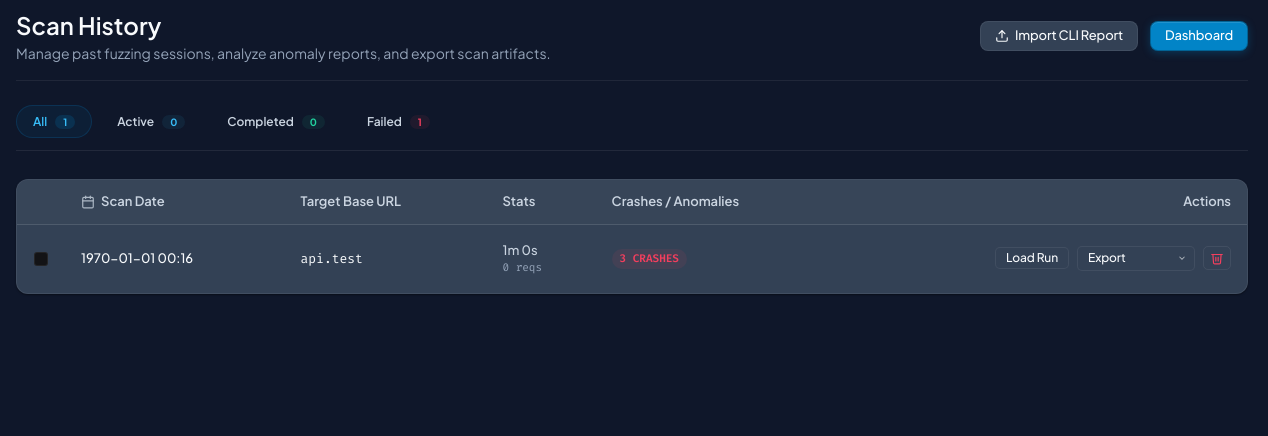
Test: HistoryPage › classifies a run with 5xx responses under the Failed tab
The image size is (1268, 436).
Expected: the 2nd text "1" is shown, [410,114,430,128]
// it is absent from the Completed tab
Click the button "Completed 0" at [276, 122], box [210,105,342,138]
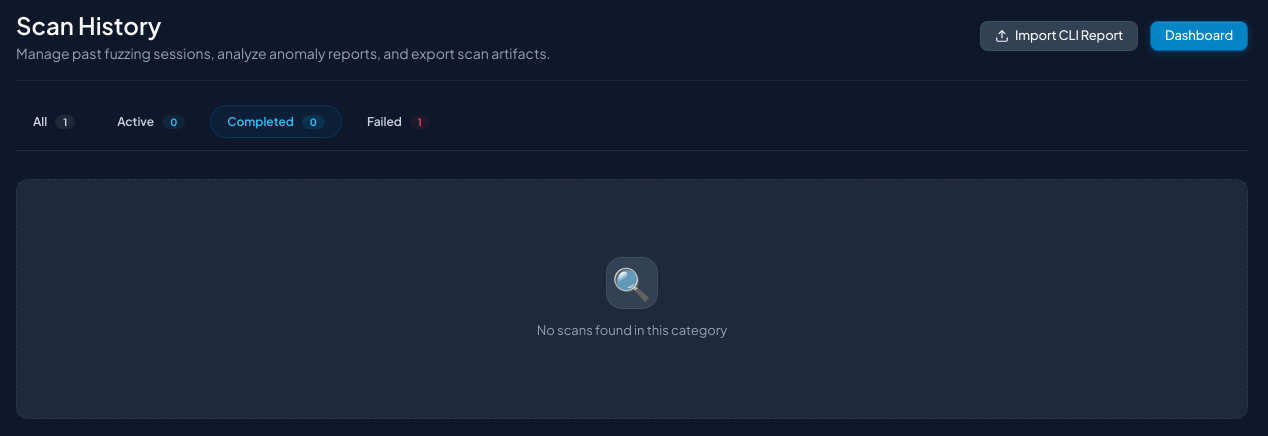
Expected: the text "No scans found in this category" is shown, [537,321,727,341]
